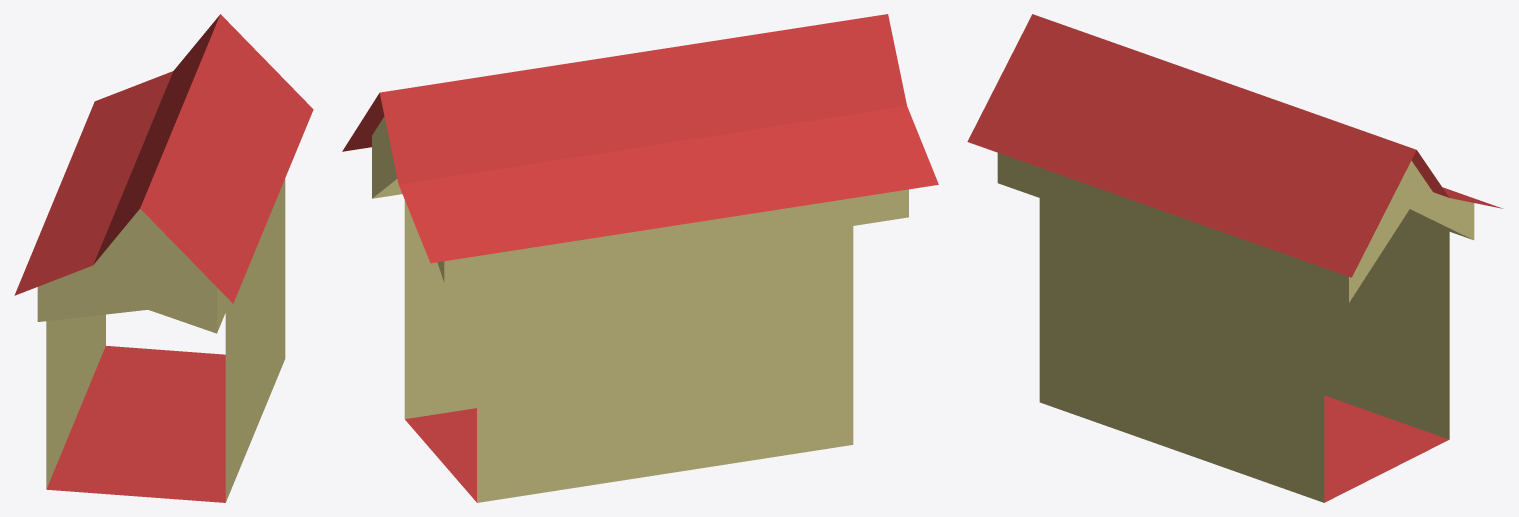
The picture shows the model from 3 angles, left to right: view 1: azimuth 30°, elevation 25°; view 2: azimuth 150°, elevation 25°; view 3: azimuth 270°, elevation 25°; orthographic projection. The views are drawn at different scales.
Bounding box in the file's own units: 17.55 × 18.7 × 13.12.
